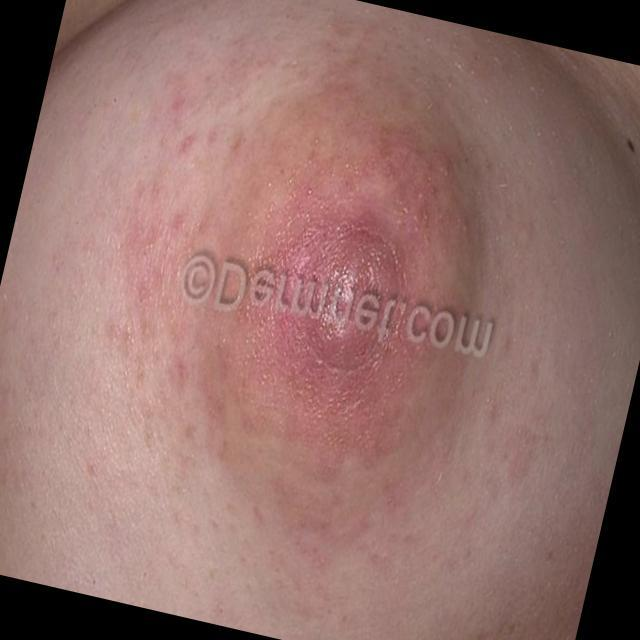Eczema: (211, 175, 433, 406)
